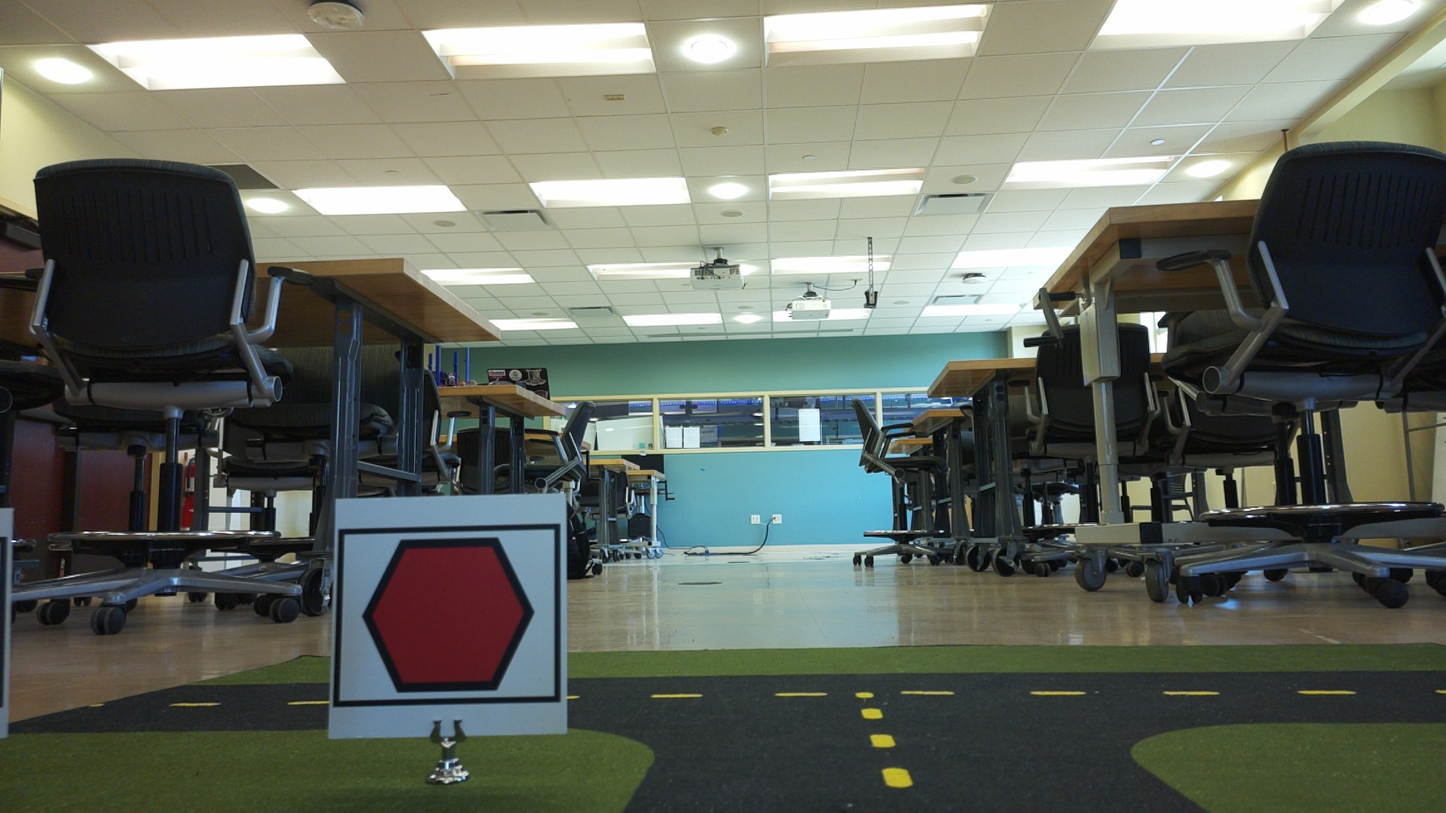stop: (349, 531, 548, 700)
yellowline: (859, 687, 912, 793)
